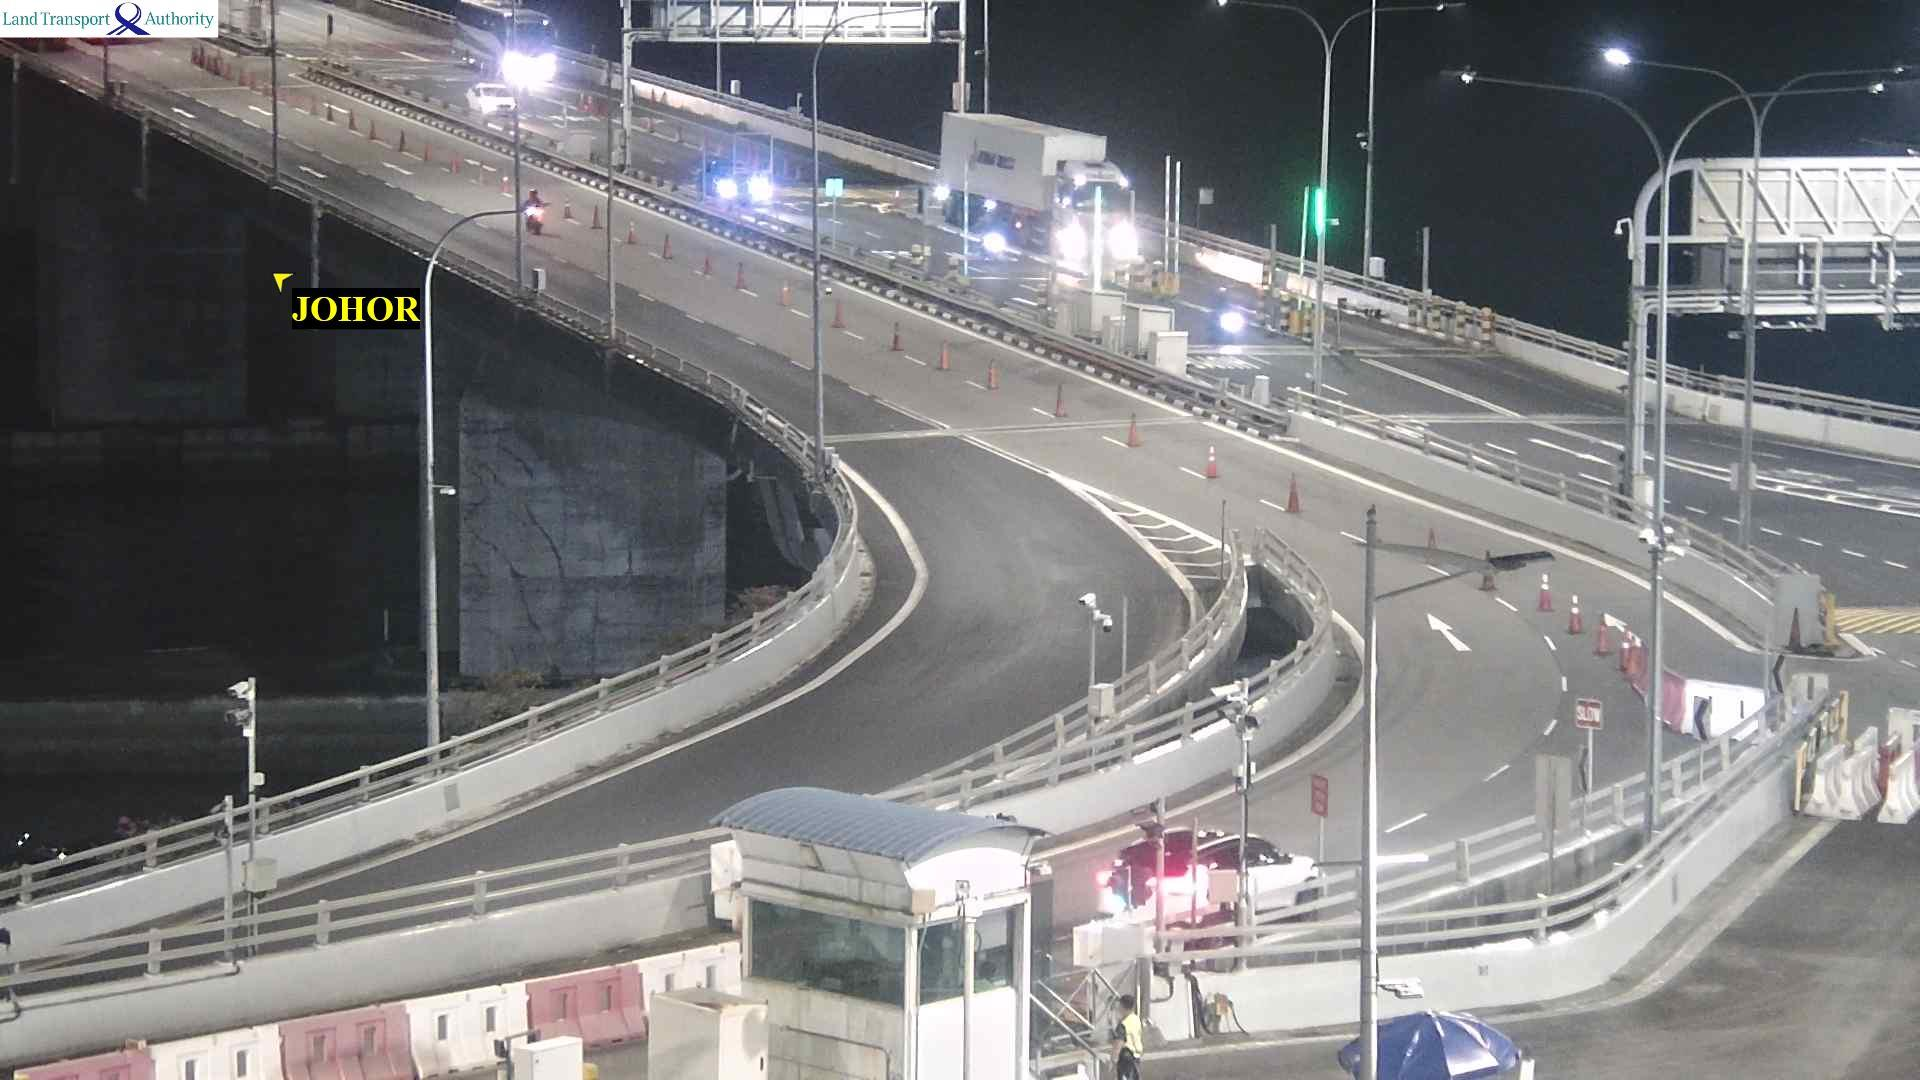vehicle-secondlink-johor: (1085, 823, 1323, 951), (527, 186, 543, 231)
vehicle-secondlink-singapore: (944, 105, 1141, 253), (455, 4, 562, 94), (700, 160, 770, 204), (469, 82, 512, 115)
